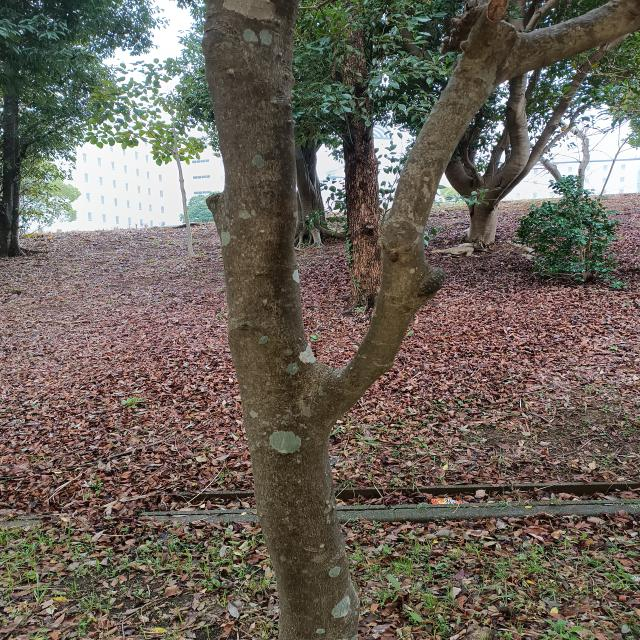Branch: (337, 0, 523, 396), (204, 3, 316, 409)
Twig: (511, 1, 640, 78)
